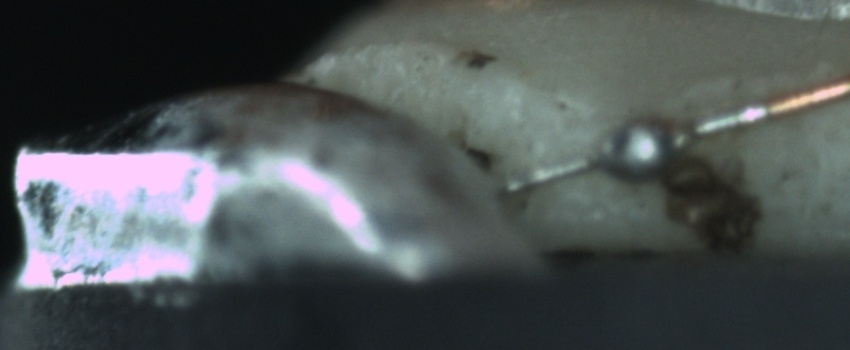TB: (597, 115, 689, 186)
TS: (502, 106, 773, 198)
TTCW: (494, 80, 833, 204)
